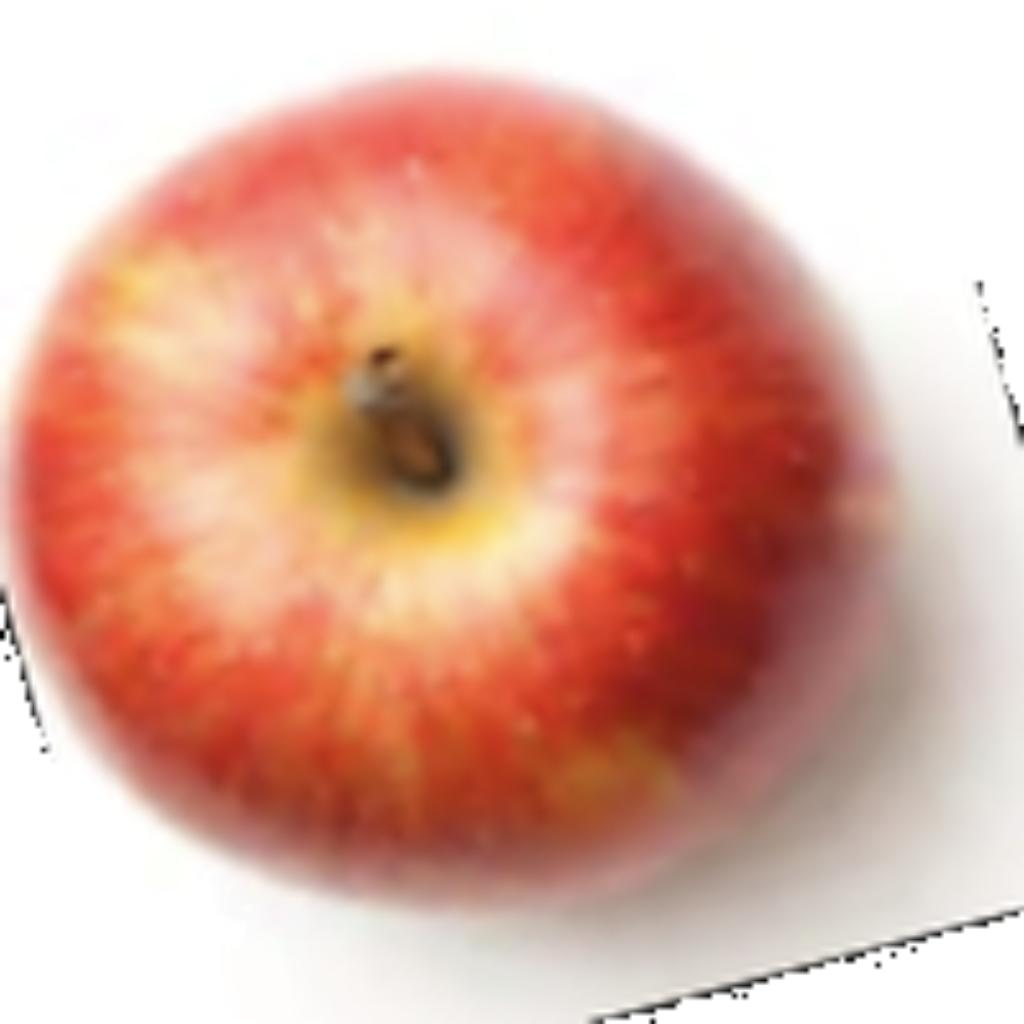apple: (0, 51, 1004, 988)
